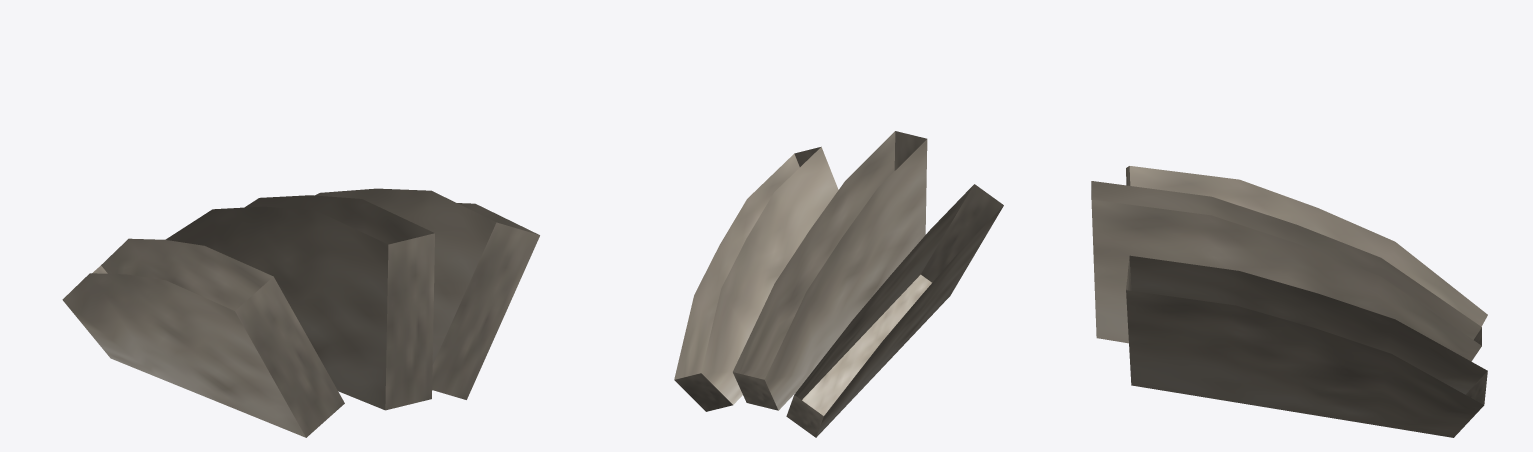
The model's file is lusi_prop_elite_5.dae.
The picture shows the model from 3 angles, left to right: view 1: azimuth 30°, elevation 25°; view 2: azimuth 150°, elevation 25°; view 3: azimuth 270°, elevation 25°; orthographic projection. The views are drawn at different scales.
Visible parts, largest first — view 1: lusi_prop_elite_5; view 2: lusi_prop_elite_5; view 3: lusi_prop_elite_5.
Part boxes in pixels (left/top/right/bottom): lusi_prop_elite_5: left=62, top=188, right=539, bottom=437; lusi_prop_elite_5: left=674, top=131, right=1003, bottom=437; lusi_prop_elite_5: left=1091, top=166, right=1487, bottom=437.
Size of the model in its own units: 0.5415 by 0.5364 by 0.4854.
